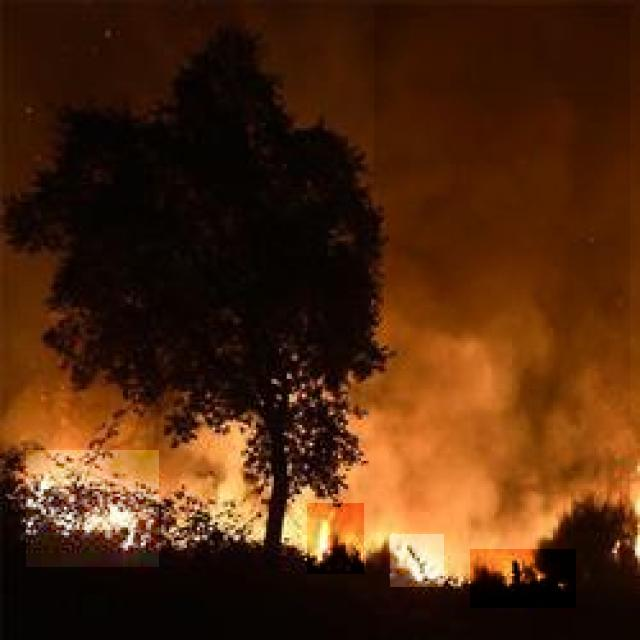Fire: (26, 450, 159, 567), (470, 549, 576, 608), (307, 503, 364, 574), (390, 534, 444, 587)
Smoke: (374, 6, 630, 532)
